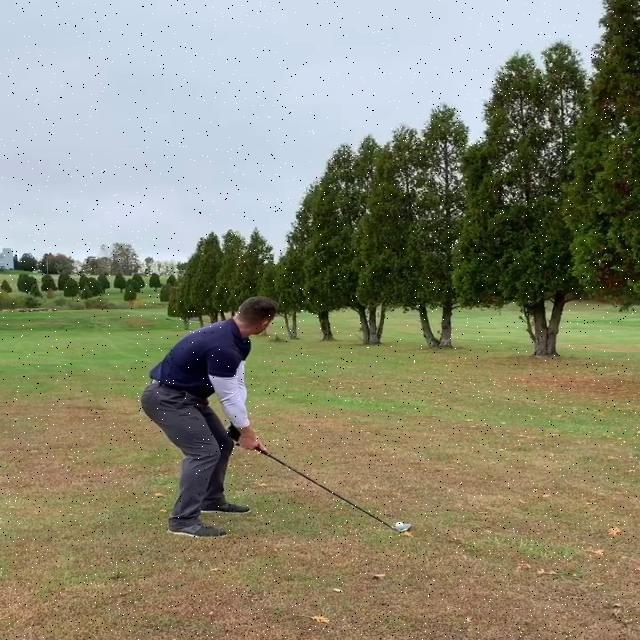ClubHandle: (225, 429, 415, 535)
ClubHead: (398, 523, 413, 532)
GolfBall: (396, 522, 404, 527)
